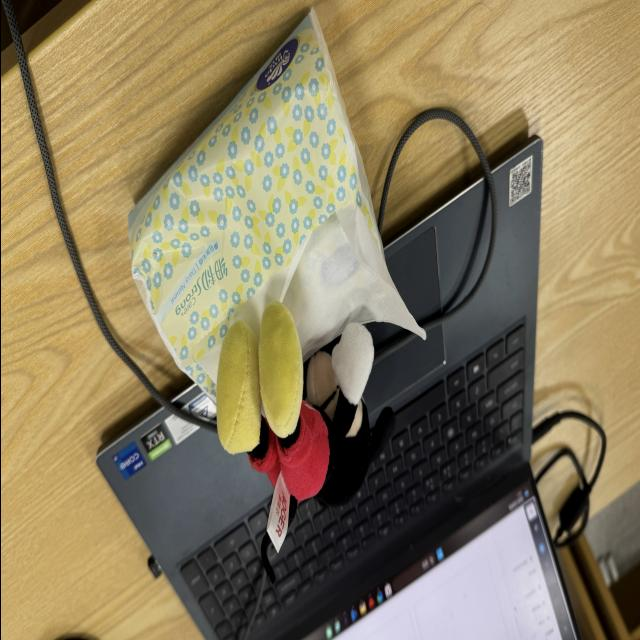mickey: (217, 303, 393, 522)
tissue: (126, 10, 425, 408)
